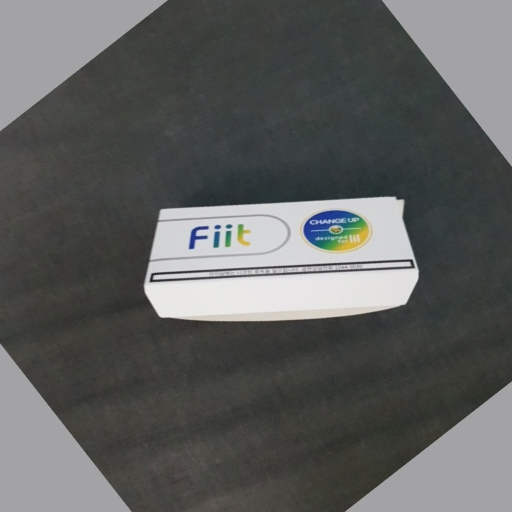Paper_0: (144, 191, 423, 326)
